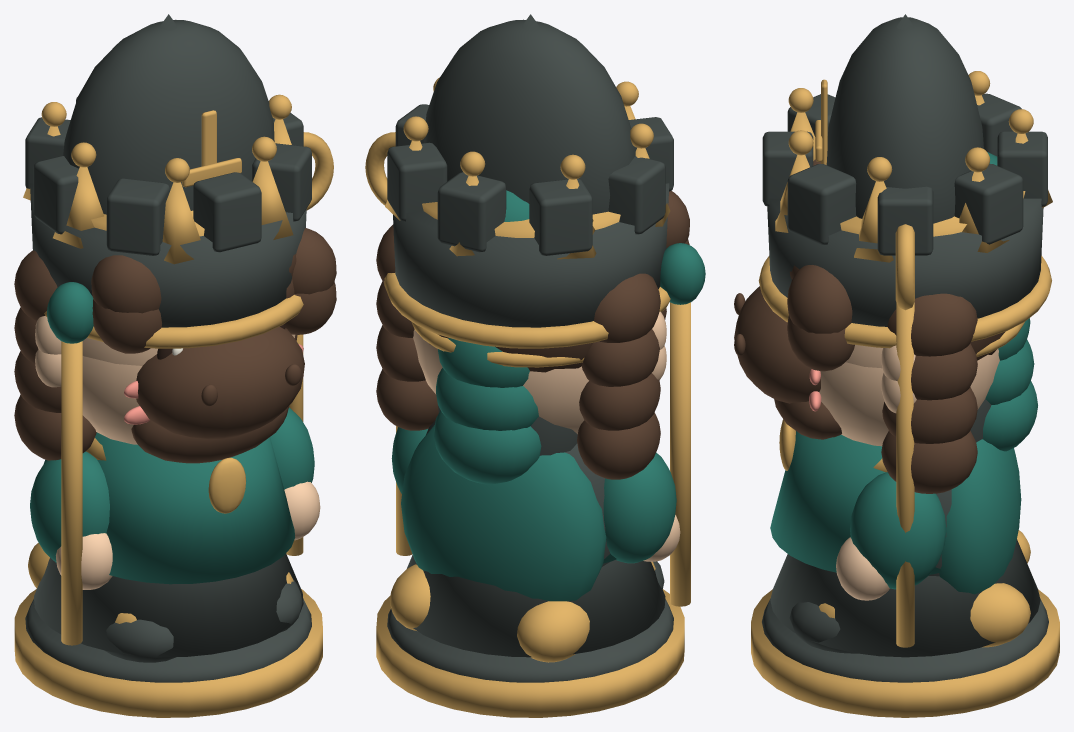
Rendered from chibi-chess.glb.
3 views of the same model, side by side, from view 1: azimuth 30°, elevation 25°; view 2: azimuth 150°, elevation 25°; view 3: azimuth 270°, elevation 25° (orthographic).
Parts seen in each view (by area): view 1: b_b, b_n, b_r, b_q, b_k, b_p; view 2: b_b, b_r, b_q, b_n, b_k, b_p; view 3: b_b, b_r, b_q, b_n, b_k, b_p.
Part boxes in pixels (x1,y1,x2,y2): b_b: [14, 14, 336, 717]; b_n: [28, 326, 304, 623]; b_r: [25, 97, 311, 348]; b_q: [14, 250, 303, 657]; b_k: [23, 94, 293, 645]; b_p: [35, 279, 336, 444]; b_b: [365, 14, 689, 717]; b_r: [384, 104, 673, 348]; b_q: [376, 224, 665, 657]; b_n: [389, 190, 666, 662]; b_k: [385, 77, 705, 606]; b_p: [413, 239, 689, 434]; b_b: [751, 14, 1059, 717]; b_r: [758, 93, 1051, 348]; b_q: [770, 293, 1040, 657]; b_n: [734, 152, 1037, 647]; b_k: [774, 71, 1052, 439]; b_p: [787, 315, 1005, 446].
Bounding box in the file's own units: 0.6882 × 1.36 × 0.6278.
